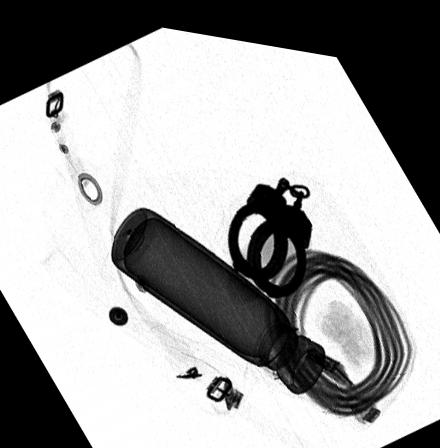HandCuffs: (226, 167, 312, 289)
